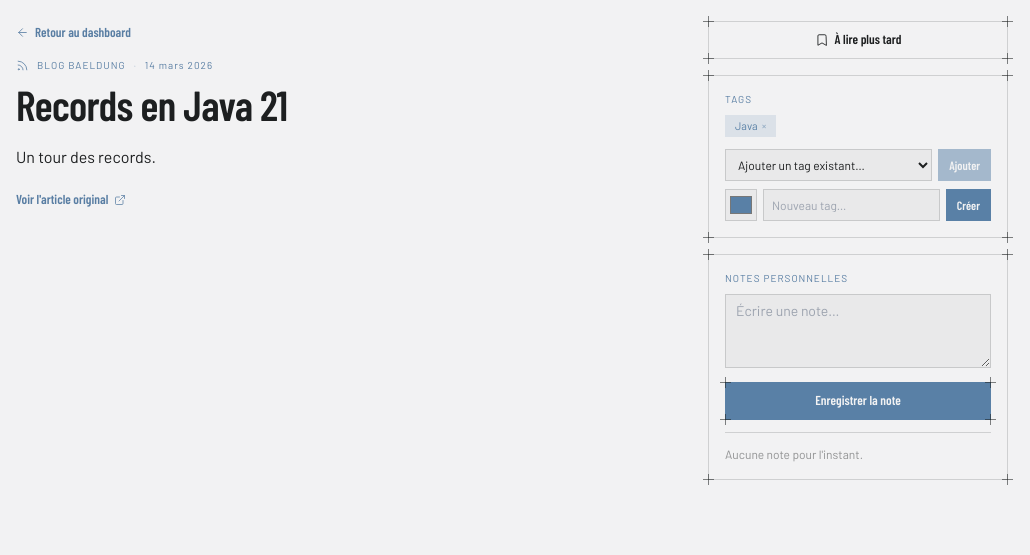
ArticleDetail › refuse une note vide sans appeler l'API
expect the heading "Records en Java 21" is shown: met, box 16,79 -> 287,129
Step 1. Click the button "Enregistrer la note" → (858, 401), box 725,382 -> 991,420
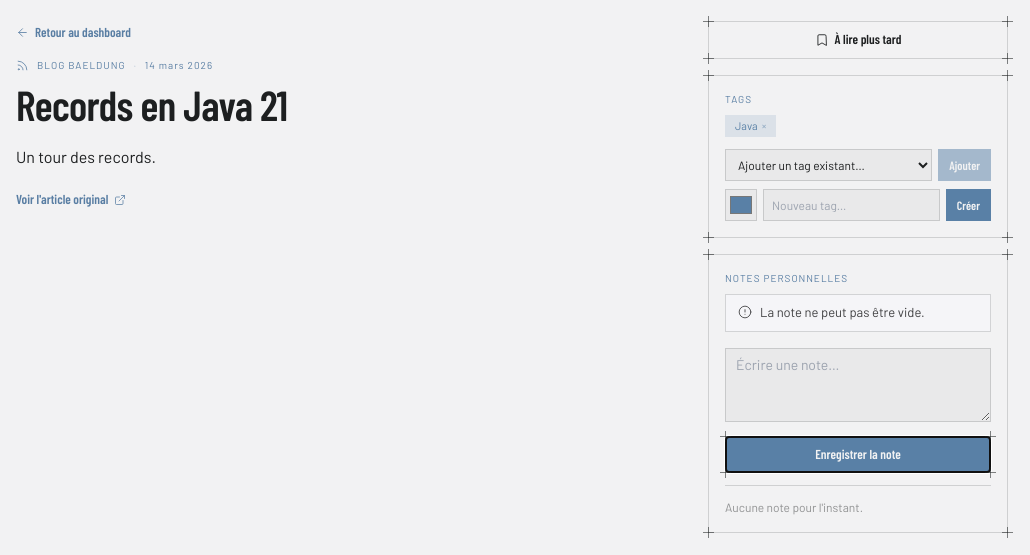
expect the text "La note ne peut pas être vide." is shown: met, box 760,303 -> 925,322
